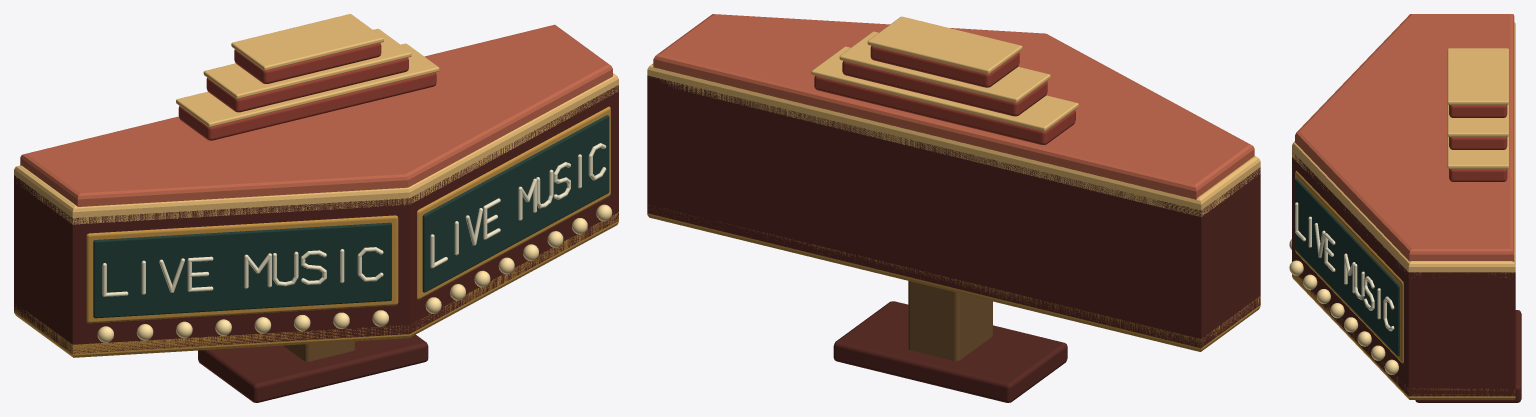
File: marquee.glb
3 views of the same model, side by side, from view 1: azimuth 30°, elevation 25°; view 2: azimuth 150°, elevation 25°; view 3: azimuth 270°, elevation 25° (orthographic). The views are drawn at different scales.
Visible parts, largest first — view 1: Club marquee; view 2: Club marquee; view 3: Club marquee.
Boxes of the visible parts, bbox=[...] form: Club marquee: bbox=[14, 14, 618, 402]; Club marquee: bbox=[647, 14, 1260, 402]; Club marquee: bbox=[1289, 14, 1521, 402].
Size of the model in its own units: 3.45 by 1.94 by 1.39.
